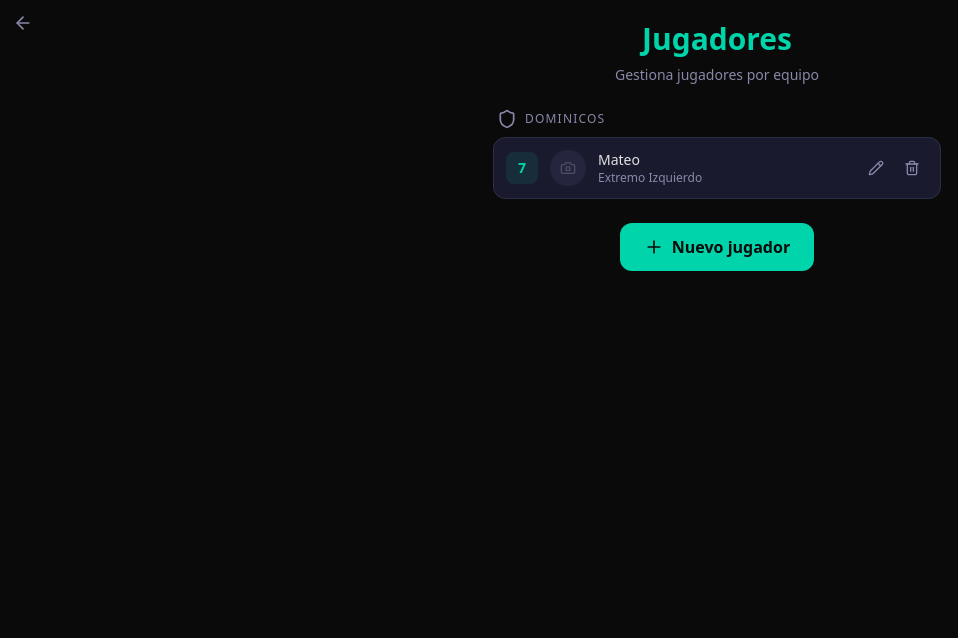
PlayersPage › toggles Ratings FIFA: shows 6 stat inputs + card type when enabled, hides when disabled
Click the 2nd button at (876,168), box [860,152,892,184]
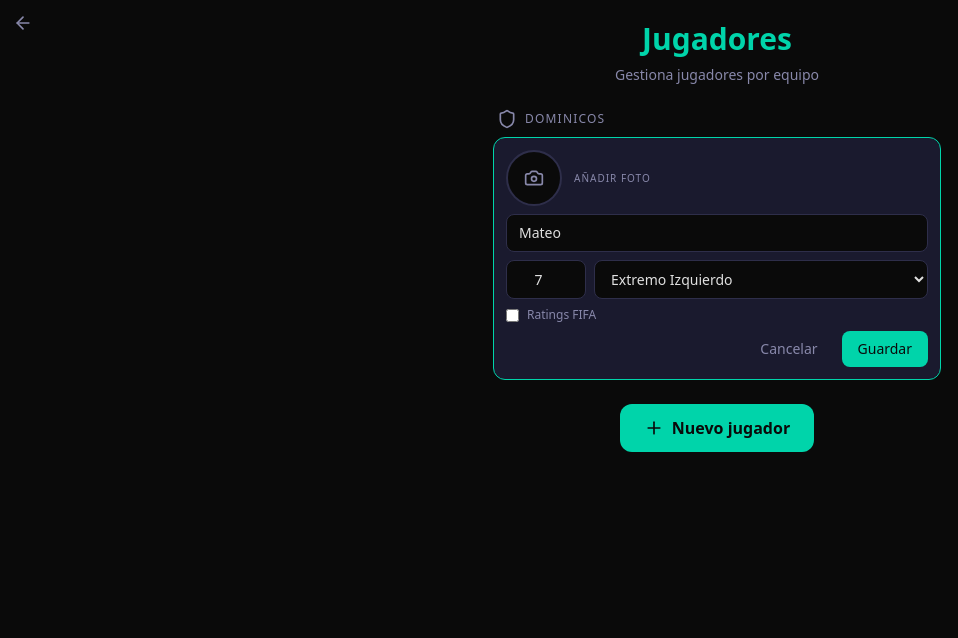
expect the checkbox is not checked: met
Click the checkbox at (512,315), box [506,308,519,322]
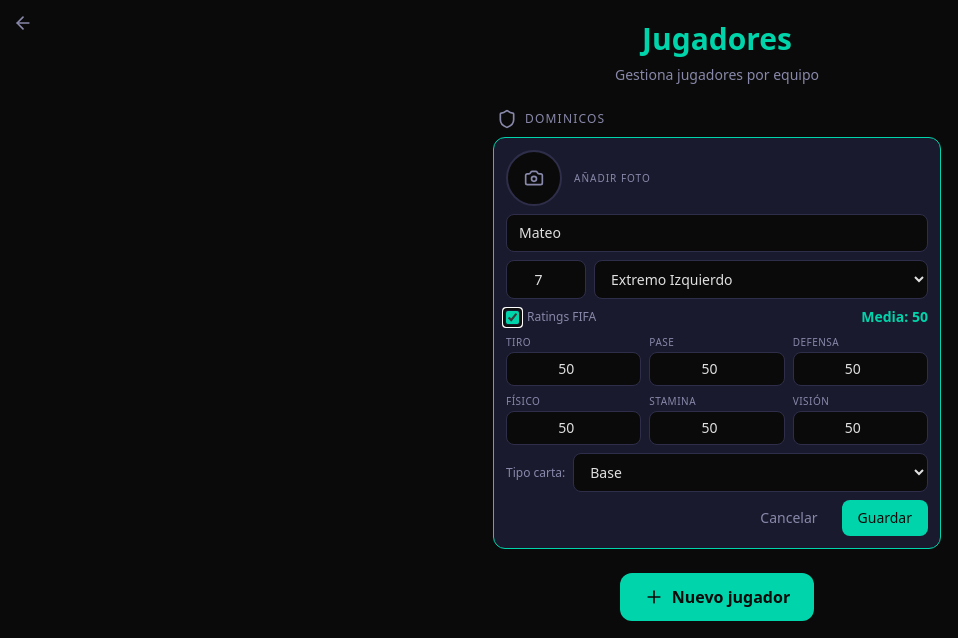
expect the number of number fields is 7: met
expect the text "Tiro" is shown: met, box [506,335,531,349]
expect the text "Tipo carta:" is shown: met, box [506,464,565,480]
Click the checkbox at (512,317), box [506,310,519,324]
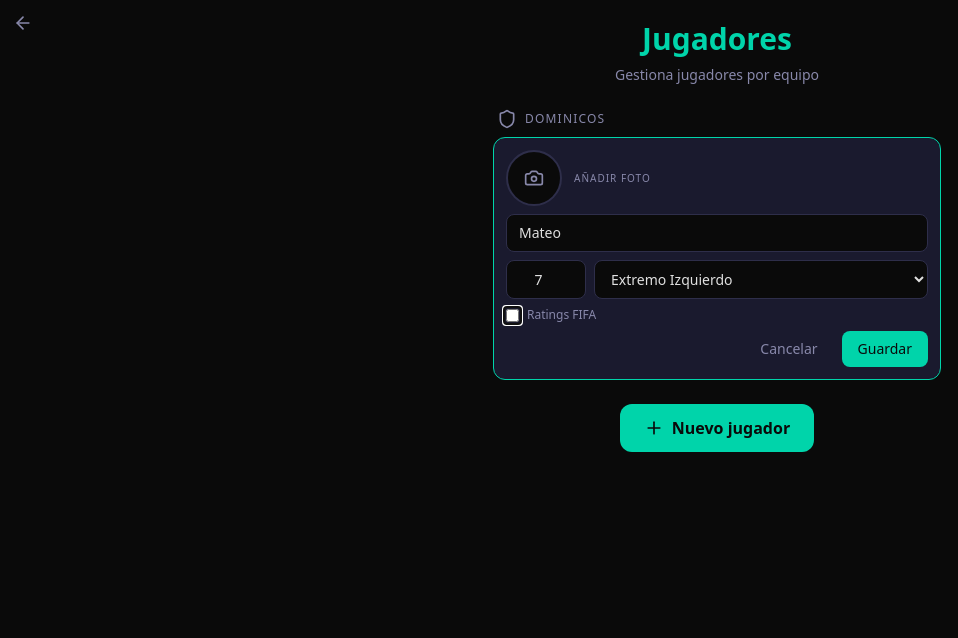
expect the text "Tiro" is gone: met
expect the text "Tipo carta:" is gone: met
